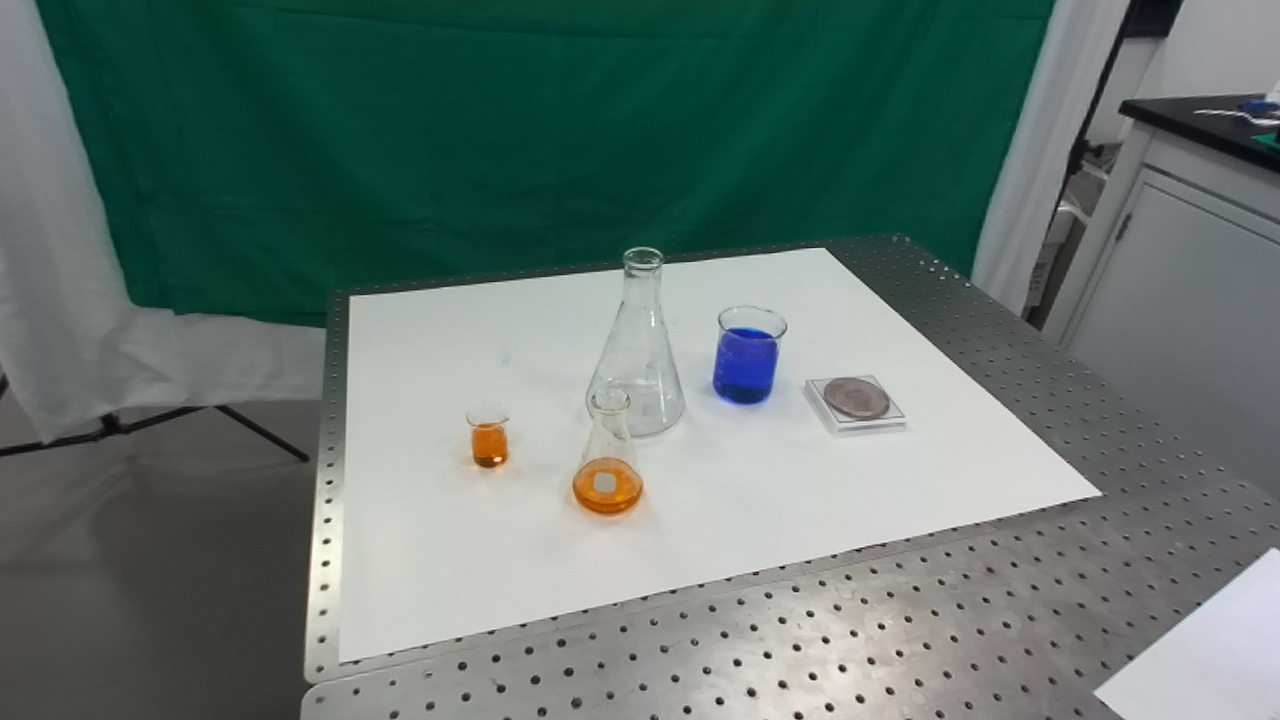glass: (582, 245, 690, 445), (566, 384, 647, 519), (711, 300, 791, 411), (461, 400, 516, 473)
plate: (802, 369, 912, 440)
